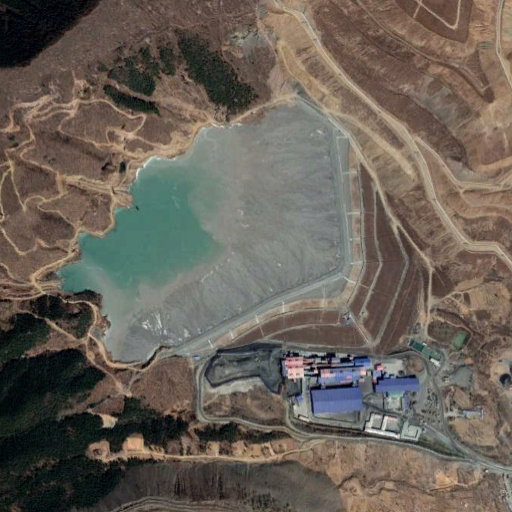tp: (57, 95, 427, 363)
